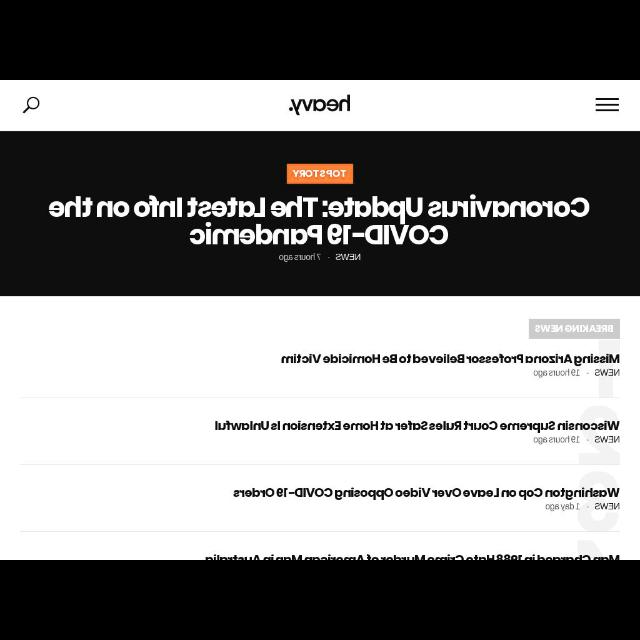icon: (595, 96, 619, 114), (22, 97, 40, 113)
text: (50, 197, 592, 246), (232, 486, 618, 499), (212, 420, 620, 432), (282, 352, 620, 366), (290, 93, 352, 117), (534, 324, 614, 334), (293, 168, 347, 180), (534, 368, 580, 379), (532, 436, 580, 444), (544, 503, 580, 513), (279, 254, 323, 262), (594, 502, 620, 511), (594, 368, 620, 376), (594, 436, 620, 444), (337, 254, 361, 262)
toolbar: (1, 80, 639, 132)
